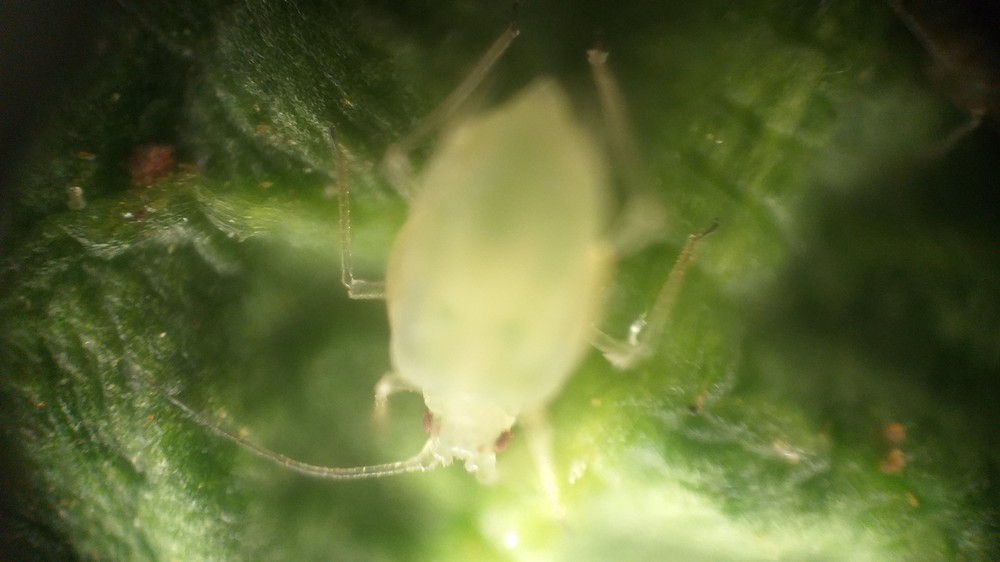Pulgon: (221, 21, 729, 562)
